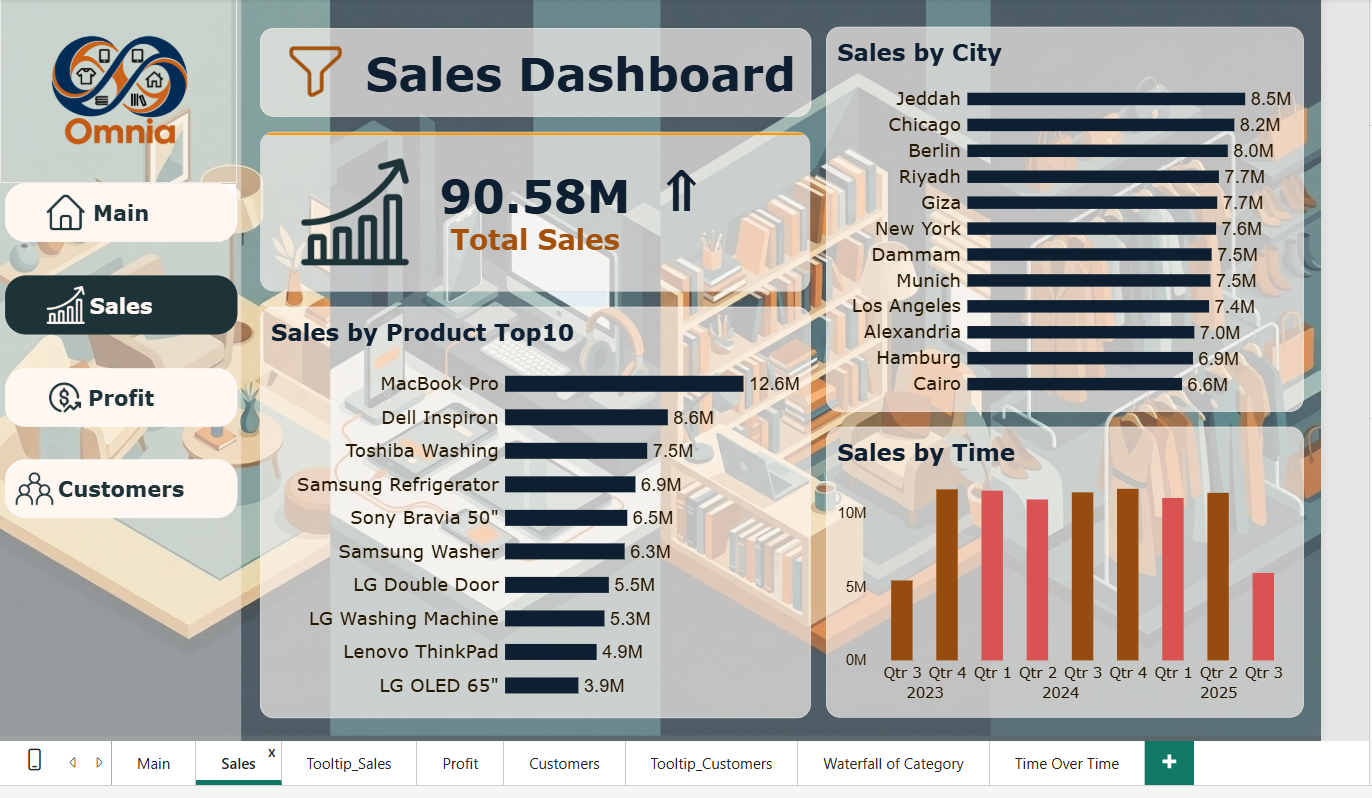

Layout of this report page (visuals, bound fields, positions):
{"tool":"powerbi","page":{"name":"Sales","canvas":[1920,1080],"ordinal":1},"visuals":[{"type":"shape","box":[0,0,350.6,1081],"z":0},{"type":"image","box":[0,0,345,268.7],"z":1000},{"type":"shape","box":[7.3,268.7,337.7,85.3],"z":2000},{"type":"shape","box":[7.3,402.6,337.7,85.3],"z":3000},{"type":"shape","box":[7.3,536.6,337.7,85.3],"z":4000},{"type":"shape","box":[7.3,670.5,337.7,85.3],"z":5000},{"type":"image","box":[52.7,268.7,85.3,85.3],"z":7000},{"type":"image","box":[52.7,403.1,85.3,85.3],"z":8000},{"type":"image","box":[52.7,537.5,85.3,85.3],"z":9000},{"type":"image","box":[7.3,670,85.3,85.3],"z":10000},{"type":"barChart","title":"Sales by City","fields":{"Category":["Dim_Location.City"],"Y":["Fact_Sales.Total Sales"]},"box":[1201.1,42.7,693.3,558.9],"z":12000},{"type":"columnChart","title":"Sales by Time","fields":{"Category":["Date.Date.Variation.Date Hierarchy.Year","Date.Date.Variation.Date Hierarchy.Quarter"],"Y":["Fact_Sales.Total Sales"]},"box":[1201.1,622.9,693.3,422.4],"z":13000},{"type":"barChart","title":"Sales by Product Top10","fields":{"Category":["Dim_Product.ProductName"],"Y":["Fact_Sales.Total Sales"]},"box":[377.6,448,800,597.3],"z":14000},{"type":"cardVisual","fields":{"Data":["Fact_Sales.Total Sales"]},"box":[377.9,195.1,799,232.1],"z":15000},{"type":"image","box":[405.3,217.6,221.9,185.6],"z":16000},{"type":"cardVisual","fields":{"Data":["Fact_Sales.Arrow Sales"]},"box":[875.2,217.9,228.8,136.2],"z":16500},{"type":"shape","box":[378,42.8,800.6,128.5],"z":18000},{"type":"image","title":"Filter Sales","box":[377.7,50.8,161.6,114.4],"z":20000}]}

Visuals, with their boxes on the page's 1920x1080 design canvas (x1, y1, x2, y2). These are canvas units, not pixel positions in the 1372x798 screenshot, which may show the page scaled, cropped or inside an application window:
shape: region(0, 0, 351, 1081)
image: region(0, 0, 345, 269)
shape: region(7, 269, 345, 354)
shape: region(7, 403, 345, 488)
shape: region(7, 537, 345, 622)
shape: region(7, 670, 345, 756)
image: region(53, 269, 138, 354)
image: region(53, 403, 138, 488)
image: region(53, 538, 138, 623)
image: region(7, 670, 93, 755)
"Sales by City" barChart: region(1201, 43, 1894, 602)
"Sales by Time" columnChart: region(1201, 623, 1894, 1045)
"Sales by Product Top10" barChart: region(378, 448, 1178, 1045)
cardVisual - Fact_Sales.Total Sales: region(378, 195, 1177, 427)
image: region(405, 218, 627, 403)
cardVisual - Fact_Sales.Arrow Sales: region(875, 218, 1104, 354)
shape: region(378, 43, 1179, 171)
"Filter Sales" image: region(378, 51, 539, 165)
